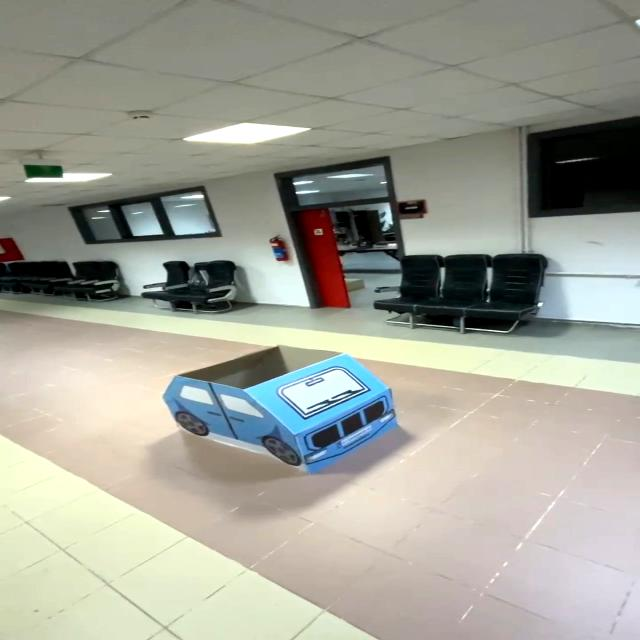blue_car: (112, 332, 415, 487)
